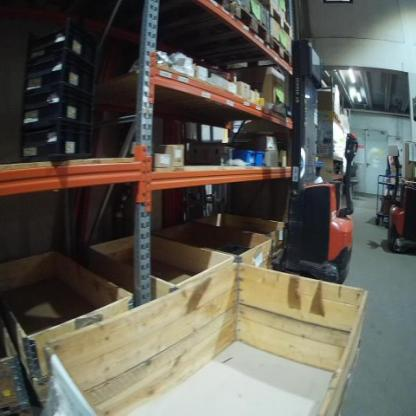pallet: (177, 5, 270, 50), (259, 2, 294, 39), (263, 35, 293, 67)
pallet_truck: (250, 23, 371, 291), (384, 138, 414, 260)
